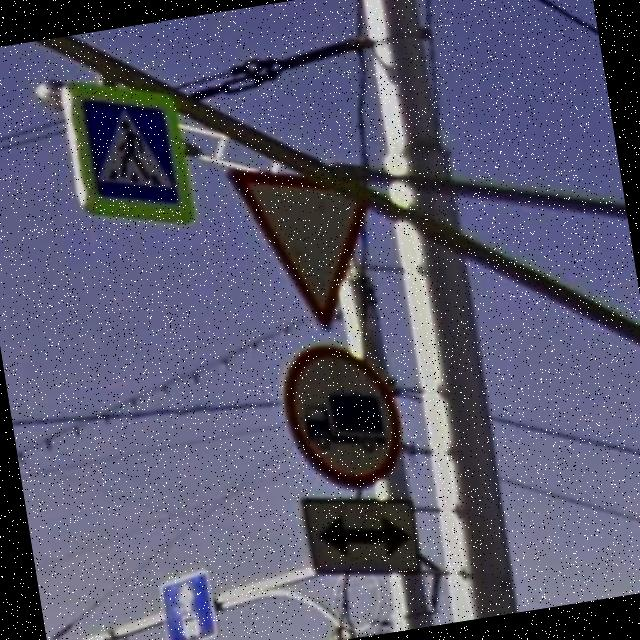Ustap pierwszenstwa: (224, 144, 392, 342)
